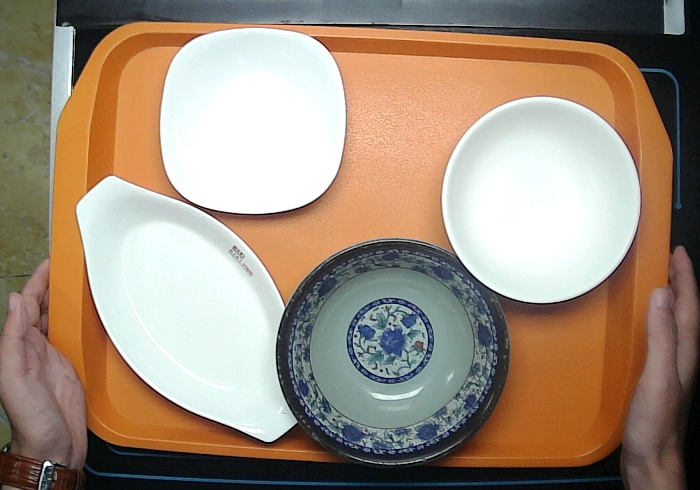ZNLD-Qing_Hua_Wan: (275, 234, 509, 471)
ZNLD-Si_Fang_Wan: (159, 24, 349, 216)
ZNLD-Tang_Wan: (441, 95, 642, 305)
ZNLD-Yu_Pan: (74, 174, 306, 443)
